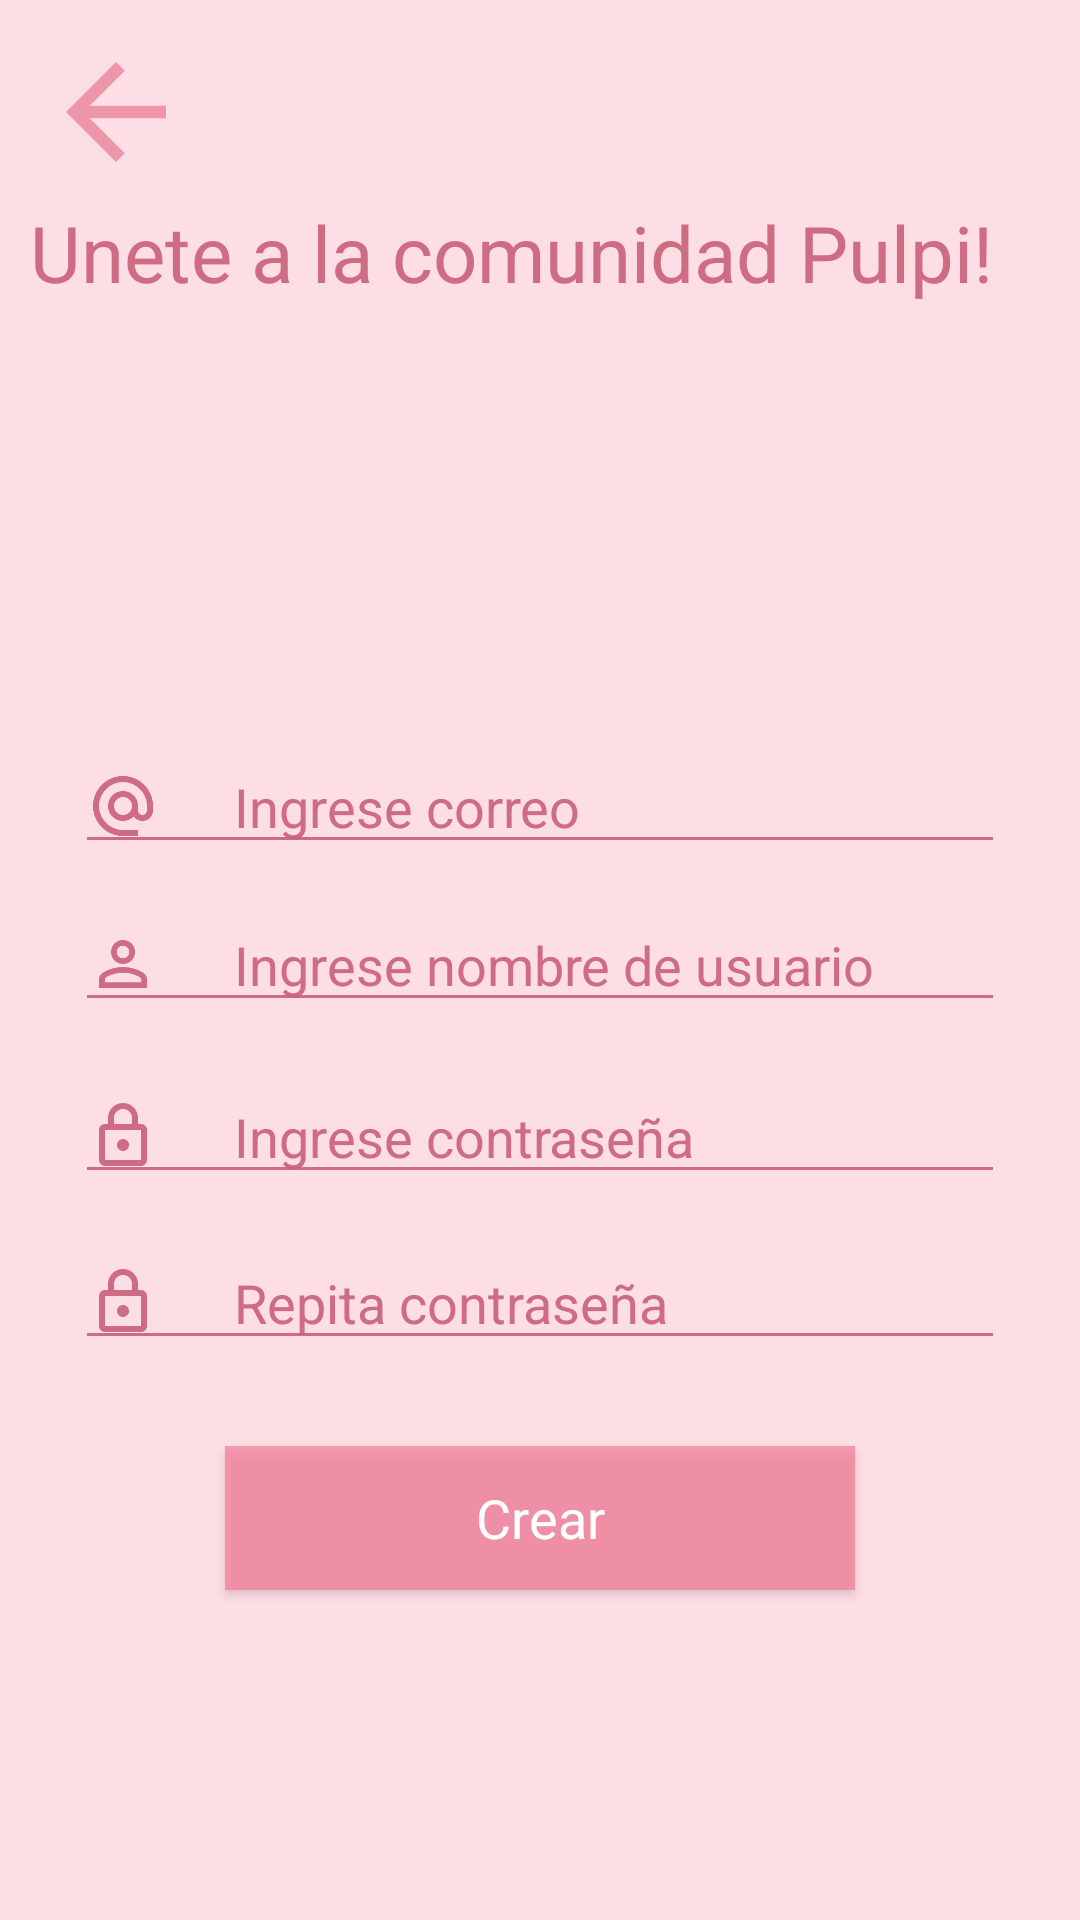

Icon bounding boxes for this 1080*1920 phone screenshot, format (x1, y1, x2, y2):
arrow back: (66, 62, 166, 162)
